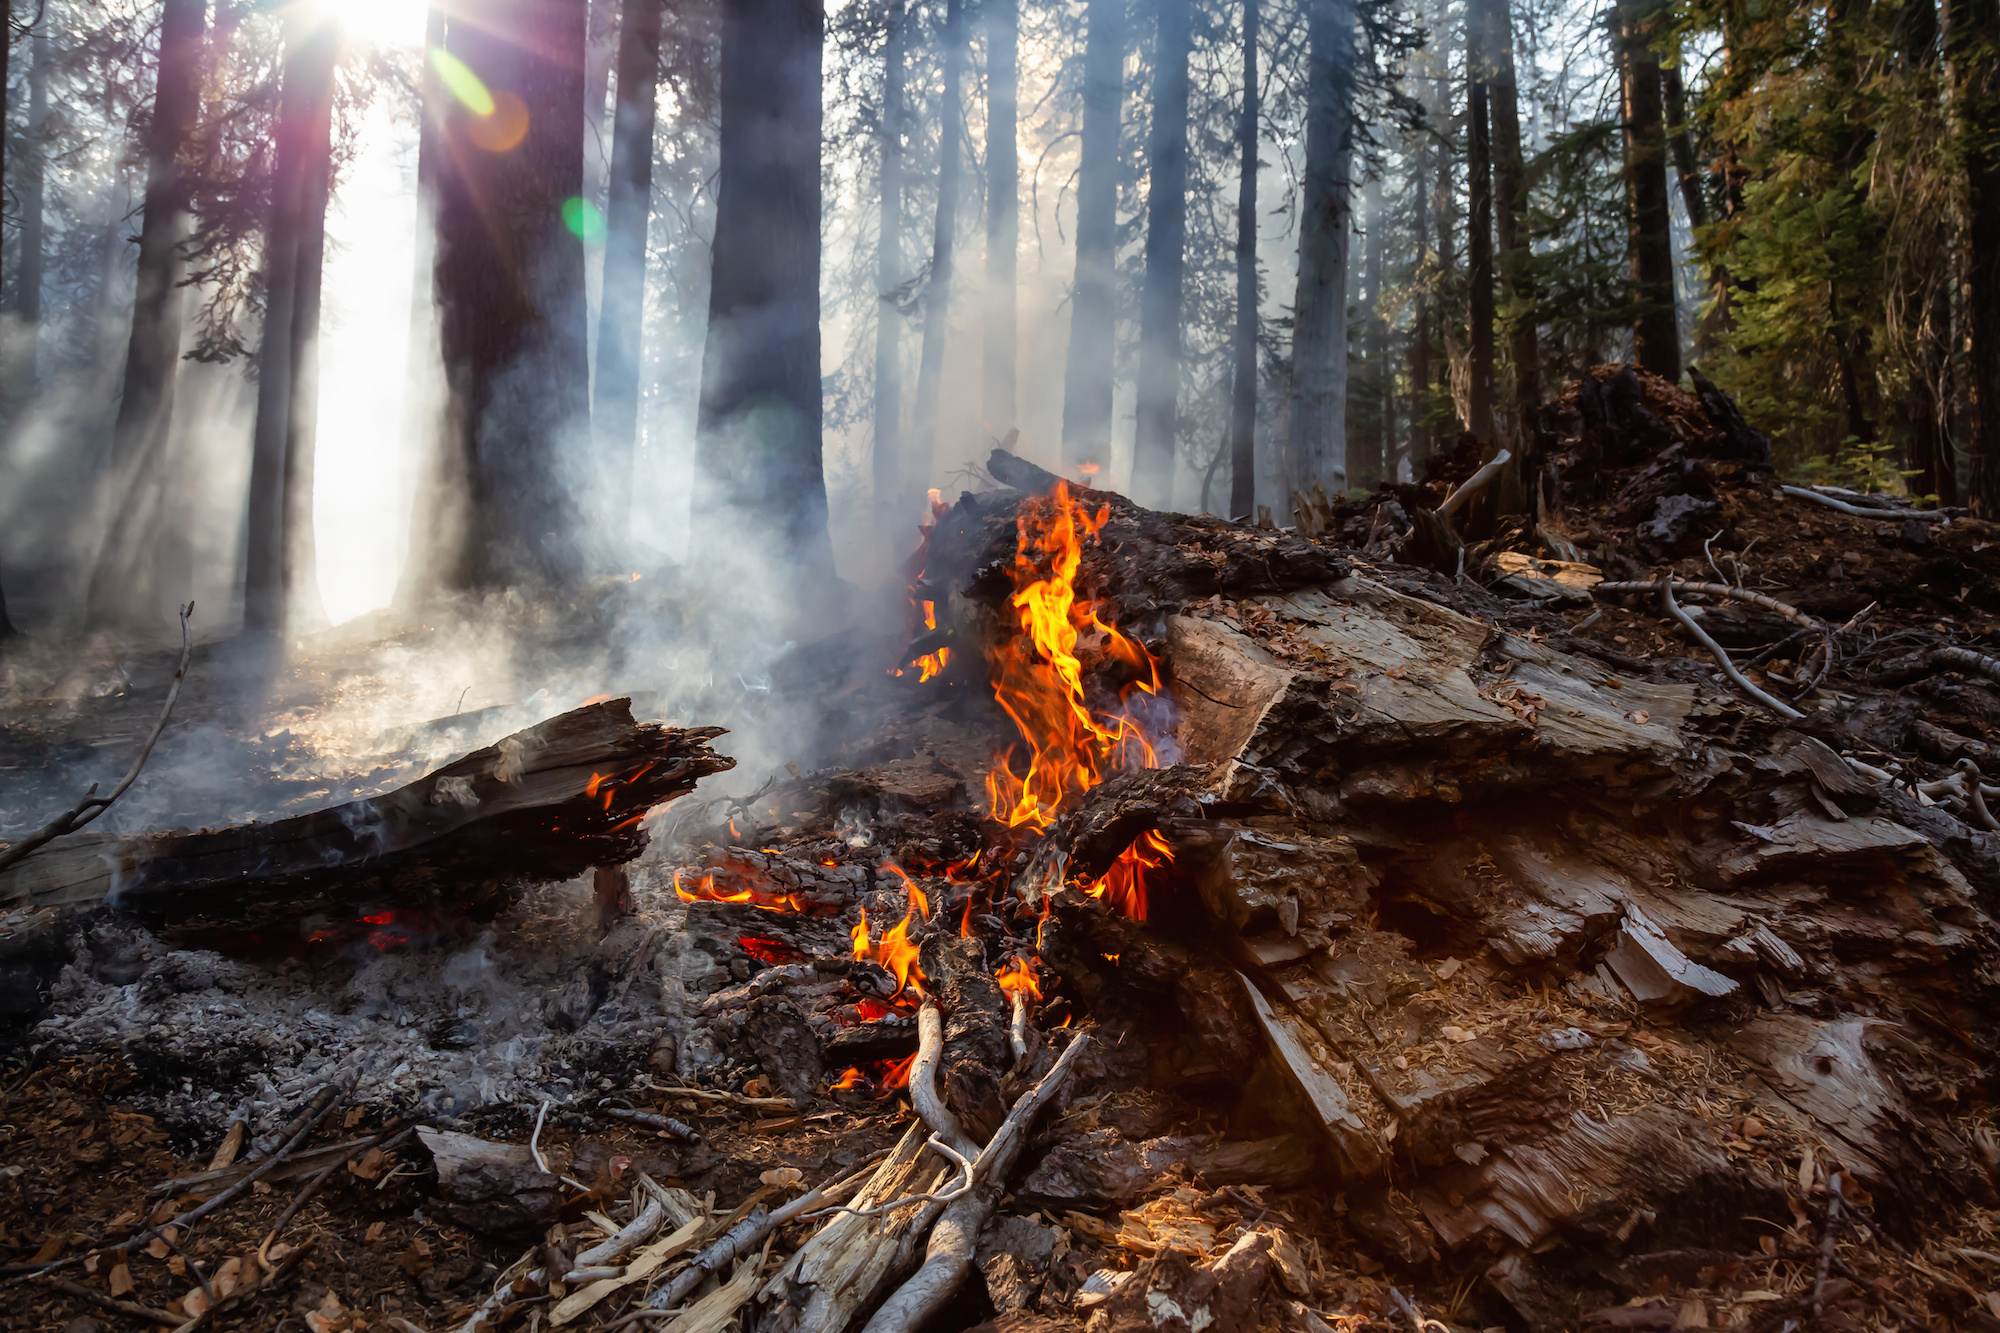fire: (94, 537, 1028, 1223), (871, 442, 1309, 1117)
